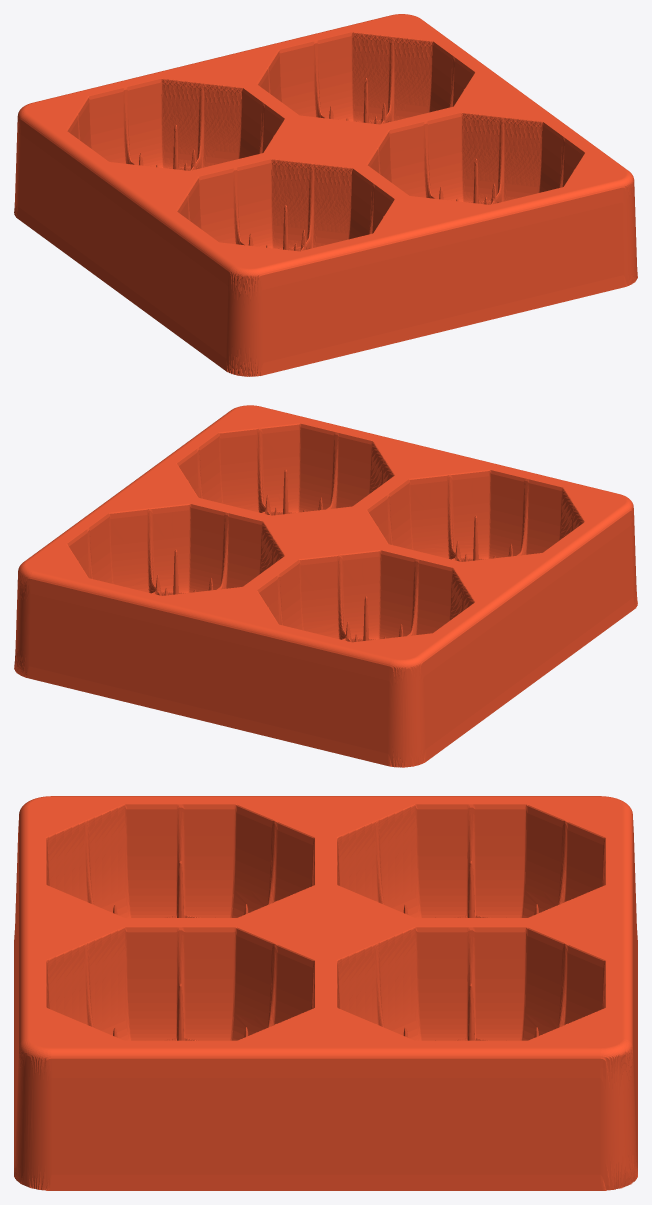
The model's file is mold.glb.
The picture shows the model from 3 angles, top to bottom: view 1: azimuth 30°, elevation 25°; view 2: azimuth 150°, elevation 25°; view 3: azimuth 270°, elevation 25°; orthographic projection. The views are drawn at different scales.
Parts seen in each view (by area): view 1: geometry_0; view 2: geometry_0; view 3: geometry_0.
Part boxes in pixels (box(x1,y1,x2,y2)): geometry_0: box(14, 14, 637, 376); geometry_0: box(14, 405, 637, 767); geometry_0: box(14, 796, 637, 1190).
Size of the model in its own units: 0.1493 by 0.036 by 0.1493.
